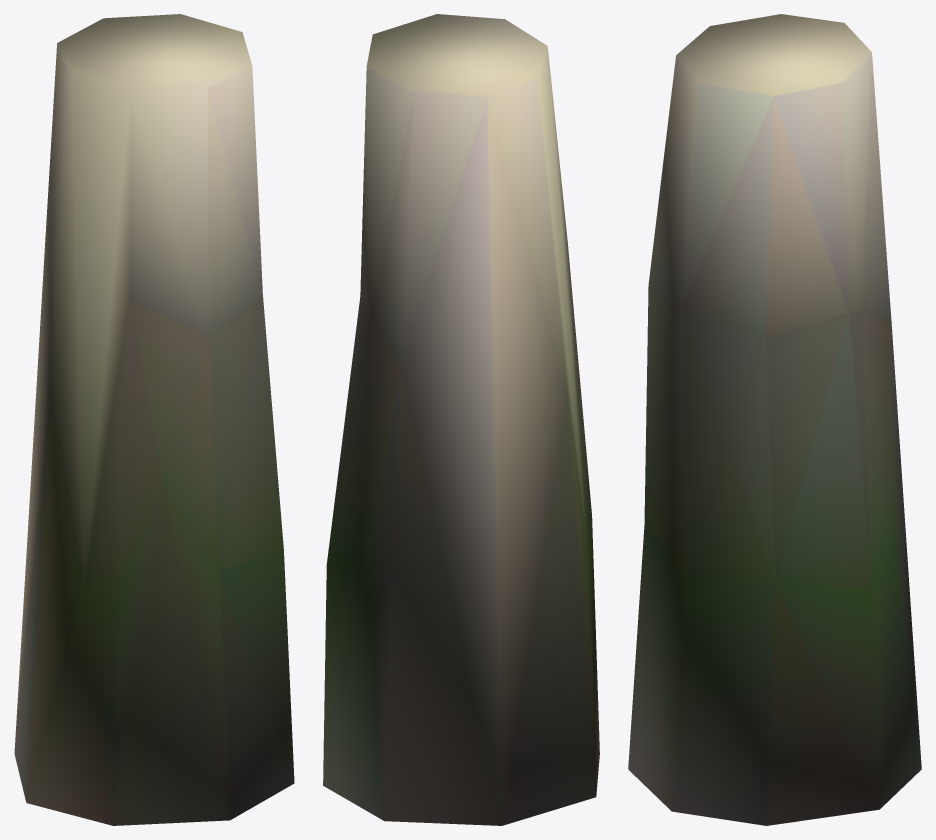
The model's file is megalith_bk_foret_broceliande_0000.glb.
3 views of the same model, side by side, from view 1: azimuth 30°, elevation 25°; view 2: azimuth 150°, elevation 25°; view 3: azimuth 270°, elevation 25° (orthographic).
Visible parts, largest first — view 1: megalith_bk_000; view 2: megalith_bk_000; view 3: megalith_bk_000.
Part boxes in pixels (<box>): megalith_bk_000: <box>14,14,294,825</box>; megalith_bk_000: <box>323,14,599,825</box>; megalith_bk_000: <box>628,14,921,825</box>.
Size of the model in its own units: 1.1 by 3 by 1.12.
